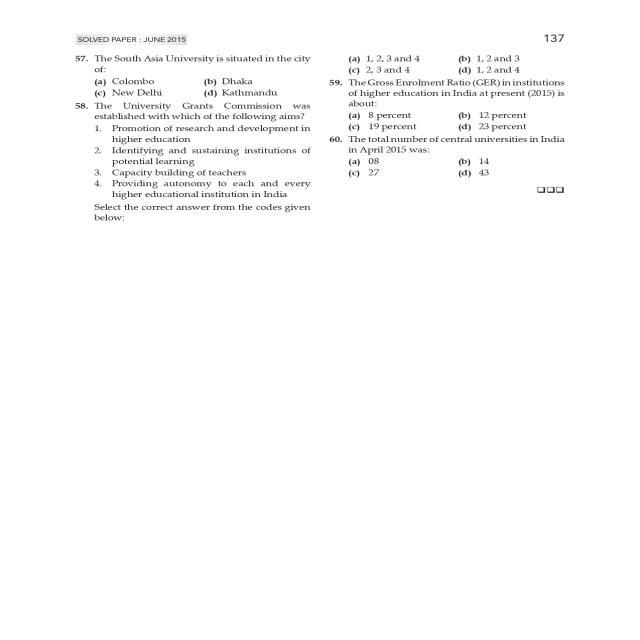Answer_Block: (324, 105, 582, 134), (324, 51, 582, 78), (49, 76, 324, 100)
Question_Answer_Block: (52, 98, 324, 222), (324, 78, 582, 132), (324, 132, 582, 184), (52, 51, 324, 78), (324, 51, 582, 78)
Question_Block: (52, 98, 324, 220), (324, 132, 582, 184), (324, 78, 582, 109)
Question_Paper_Area: (52, 51, 324, 606), (324, 51, 582, 606)
